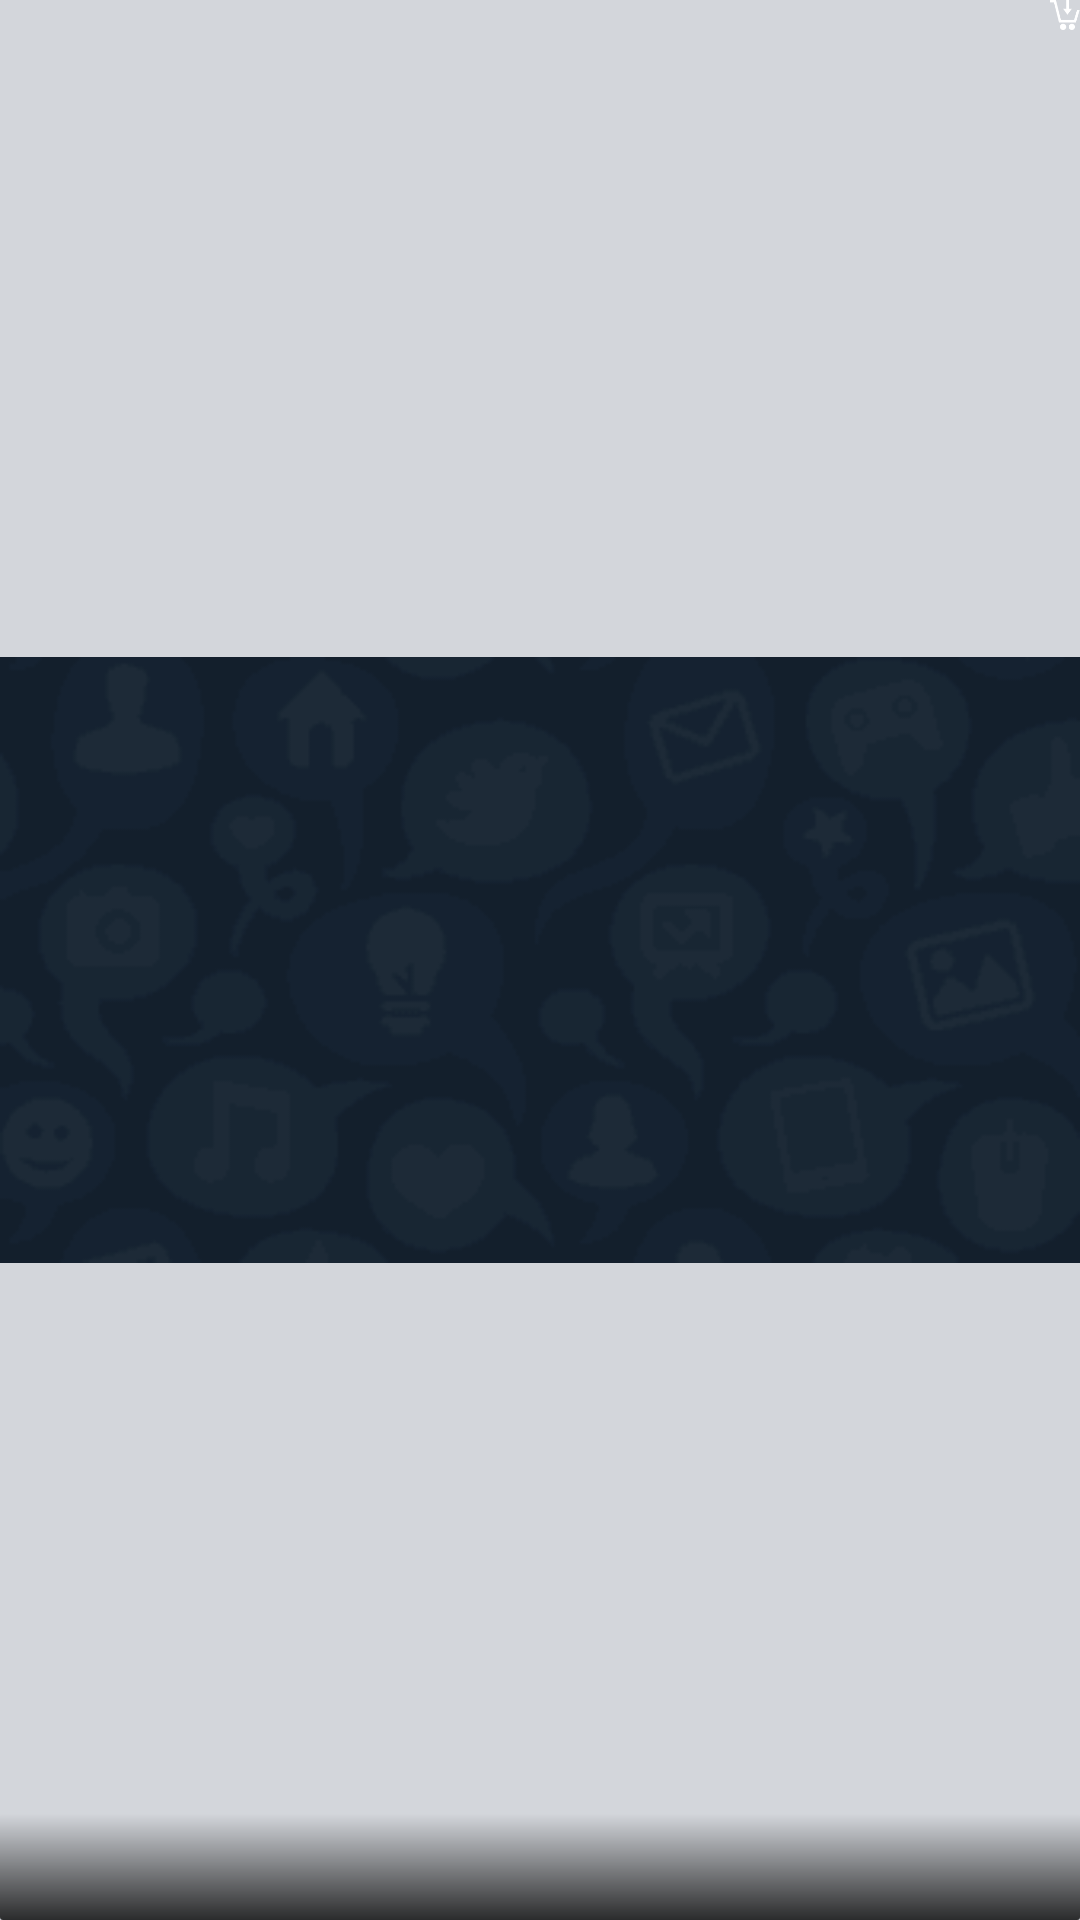

Named icons in this screenshot (1080x1920) and their bounding boxes, (x1, y1, x2, y2):
item cart buy: (1050, 0, 1079, 30)
